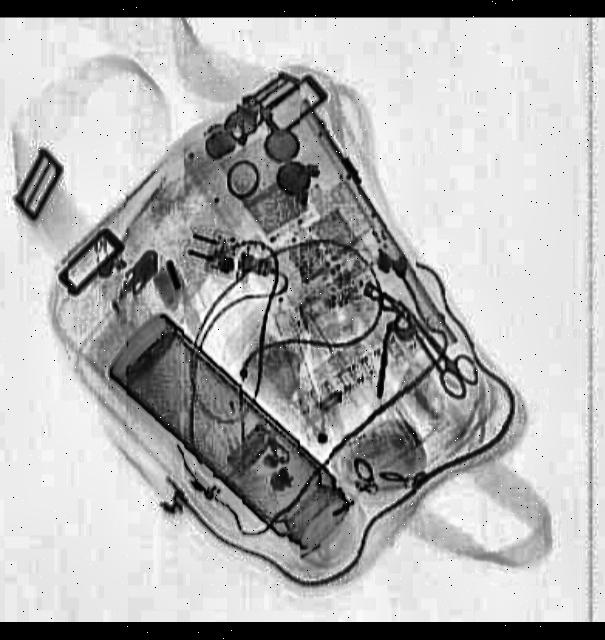Scissors: (388, 289, 488, 402)
